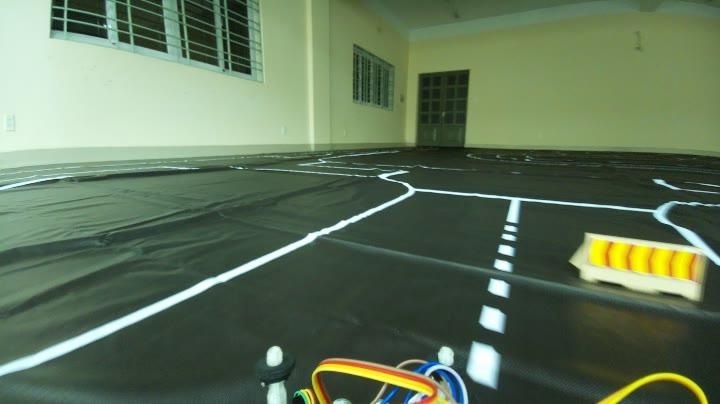roadblock: (566, 222, 712, 316)
